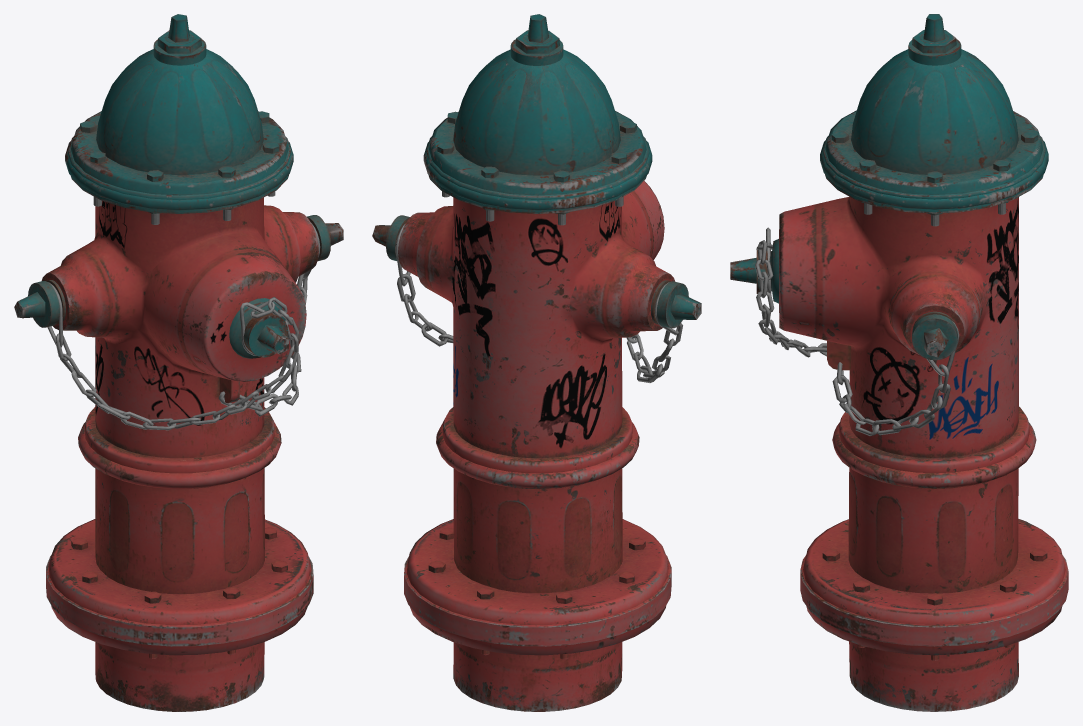
The model's file is fire_hydrant.glb.
The picture shows the model from 3 angles, left to right: view 1: azimuth 30°, elevation 25°; view 2: azimuth 150°, elevation 25°; view 3: azimuth 270°, elevation 25°; orthographic projection.
Parts seen in each view (by area): view 1: Hydrant; view 2: Hydrant; view 3: Hydrant.
Boxes of the visible parts, x1,y1,x2,y2 form: Hydrant: (14, 14, 343, 711); Hydrant: (372, 14, 701, 711); Hydrant: (730, 14, 1068, 711).
Bounding box in the file's own units: 0.4844 × 0.9496 × 0.4414.
1 material, 1 textured.
